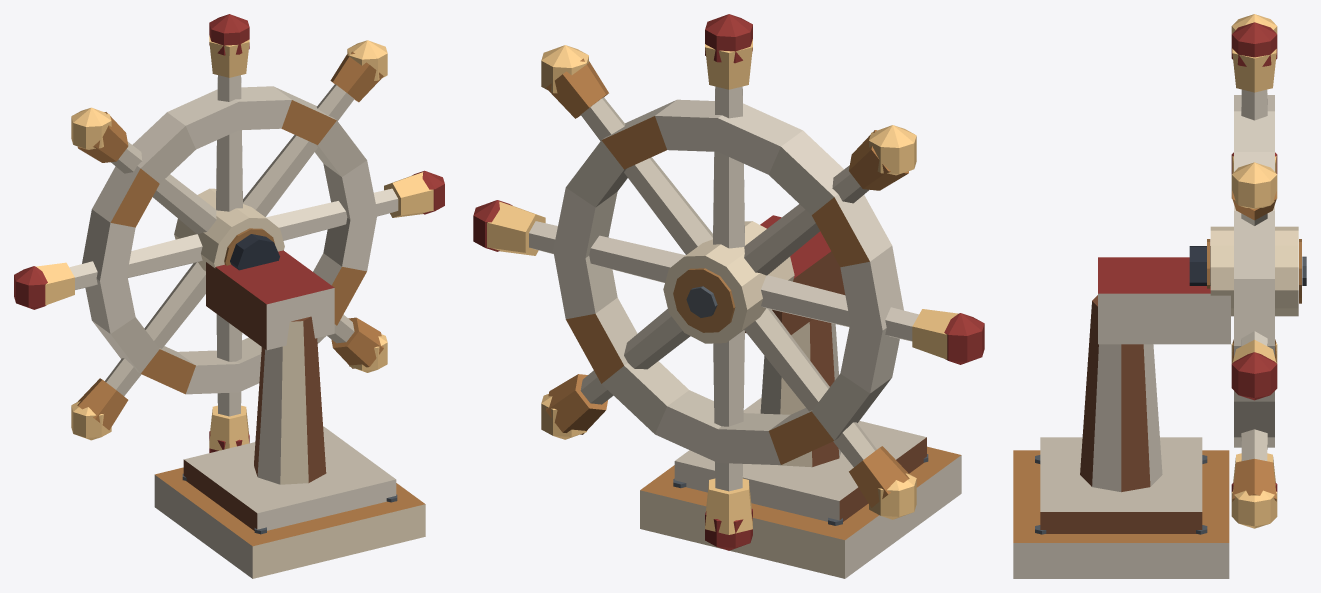
The model's file is Helm_Complete_Static.obj.
3 renders of one model, left to right at view 1: azimuth 30°, elevation 25°; view 2: azimuth 150°, elevation 25°; view 3: azimuth 270°, elevation 25°, orthographic. The views are drawn at different scales.
Parts seen in each view (by area): view 1: Helm_Complete_Static; view 2: Helm_Complete_Static; view 3: Helm_Complete_Static.
Boxes of the visible parts, x1,y1,x2,y2 form: Helm_Complete_Static: (14, 14, 444, 578); Helm_Complete_Static: (473, 14, 984, 578); Helm_Complete_Static: (1013, 14, 1306, 578).
Bounding box in the file's own units: 1.51 × 1.56 × 0.815.
Materials: 1 (1 with a texture image).
